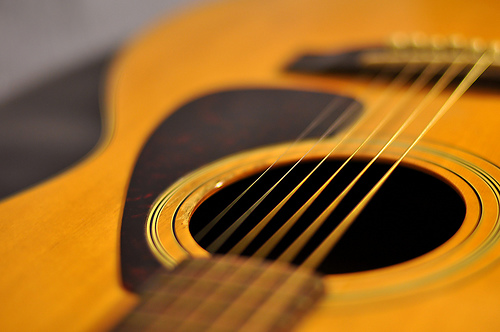guitar: (1, 1, 500, 332)
